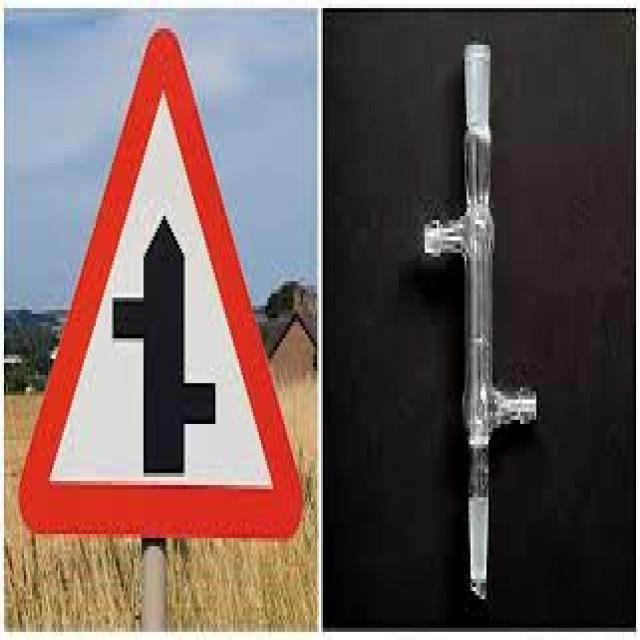staggered intersection: (20, 29, 302, 536)
